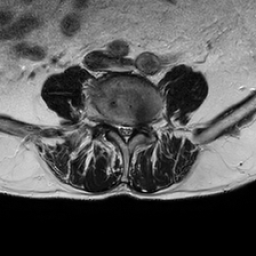CCS_normal: (122, 118, 129, 145)
LFS_severe_stenosis: (136, 116, 142, 136)
LLS_stenosis: (129, 118, 136, 139)
RFS_severe_stenosis: (108, 115, 115, 134)
RLS_stenosis: (115, 117, 122, 138)
